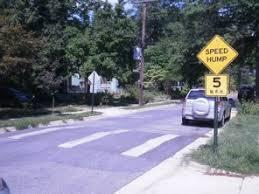Bump: (7, 125, 199, 162)
